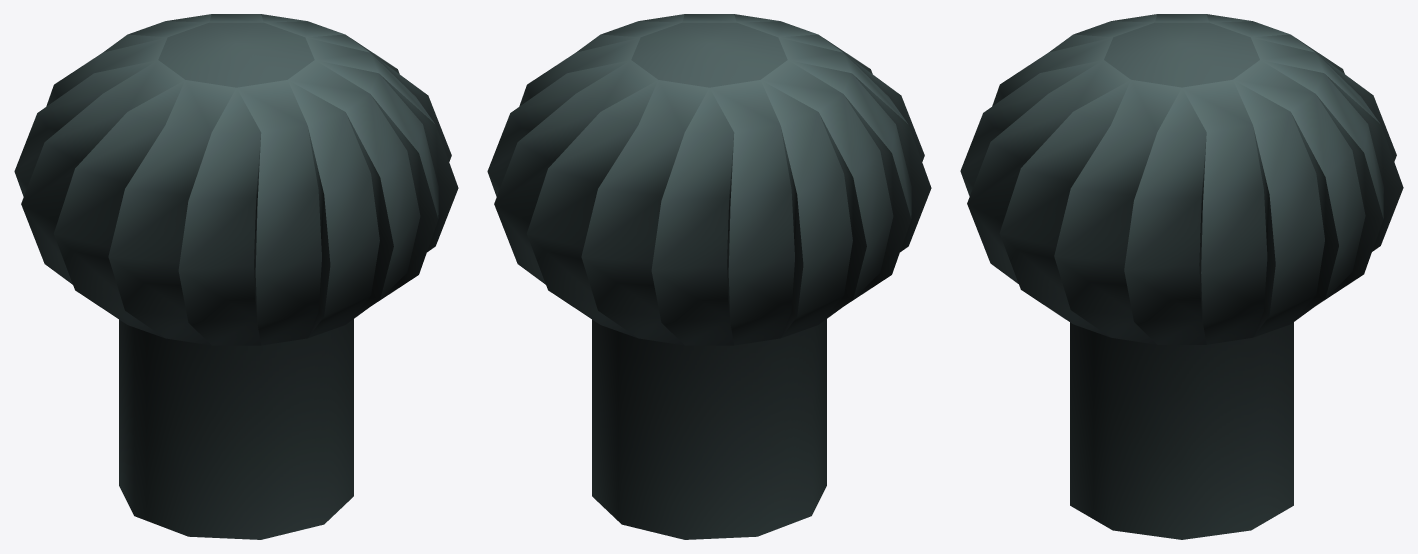
The model's file is Air_Vent_1A.fbx.
The picture shows the model from 3 angles, left to right: view 1: azimuth 30°, elevation 25°; view 2: azimuth 150°, elevation 25°; view 3: azimuth 270°, elevation 25°; orthographic projection.
Parts seen in each view (by area): view 1: Turbine, Air_Vent_1A; view 2: Turbine, Air_Vent_1A; view 3: Turbine, Air_Vent_1A.
Part boxes in pixels (x1=…): Turbine: x1=14, y1=14, x2=458, y2=345; Air_Vent_1A: x1=119, y1=319, x2=353, y2=539; Turbine: x1=487, y1=14, x2=931, y2=345; Air_Vent_1A: x1=592, y1=319, x2=826, y2=539; Turbine: x1=960, y1=14, x2=1403, y2=344; Air_Vent_1A: x1=1070, y1=322, x2=1293, y2=539.
Size of the model in its own units: 1.98 by 2.2 by 1.98.
